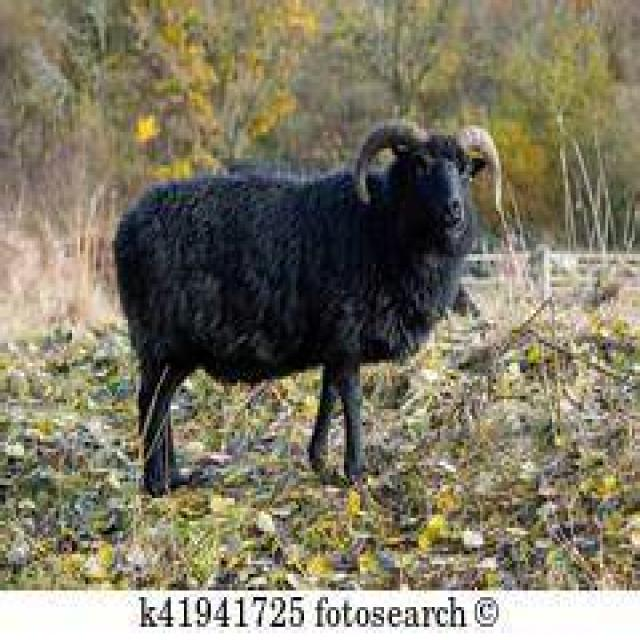animal: (109, 115, 504, 495)
